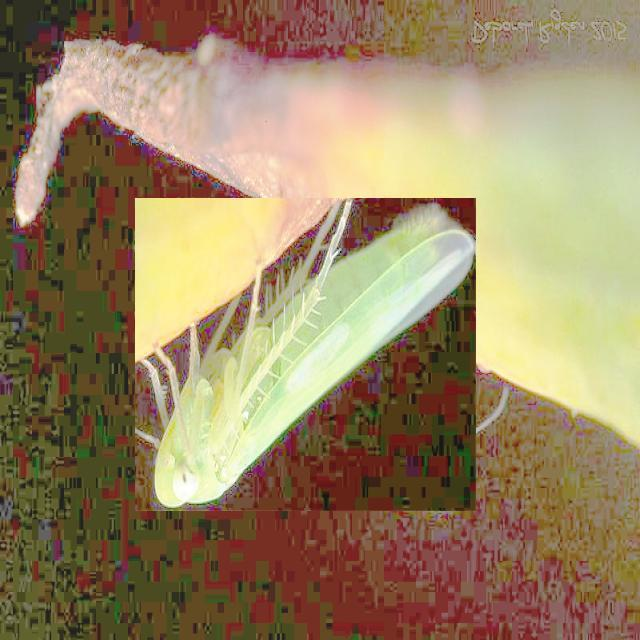green-leafhopper: (136, 198, 475, 510)
